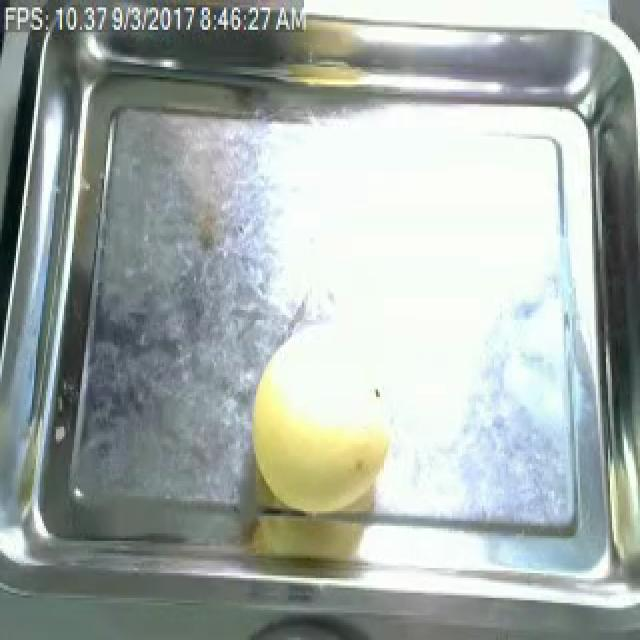Fruit: (238, 328, 406, 518)
